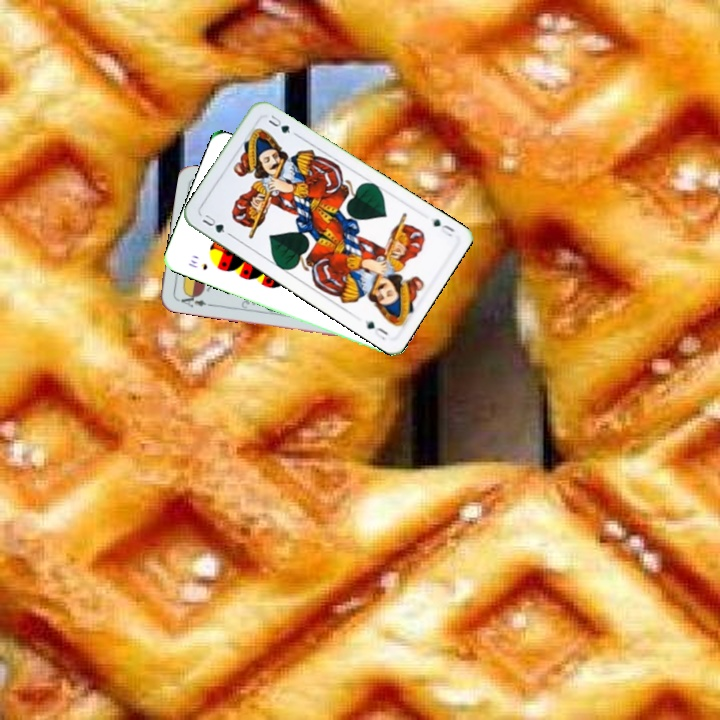EA: (173, 289, 213, 310)
GU: (198, 210, 233, 238), (429, 215, 457, 239)
S10: (184, 256, 210, 273)
